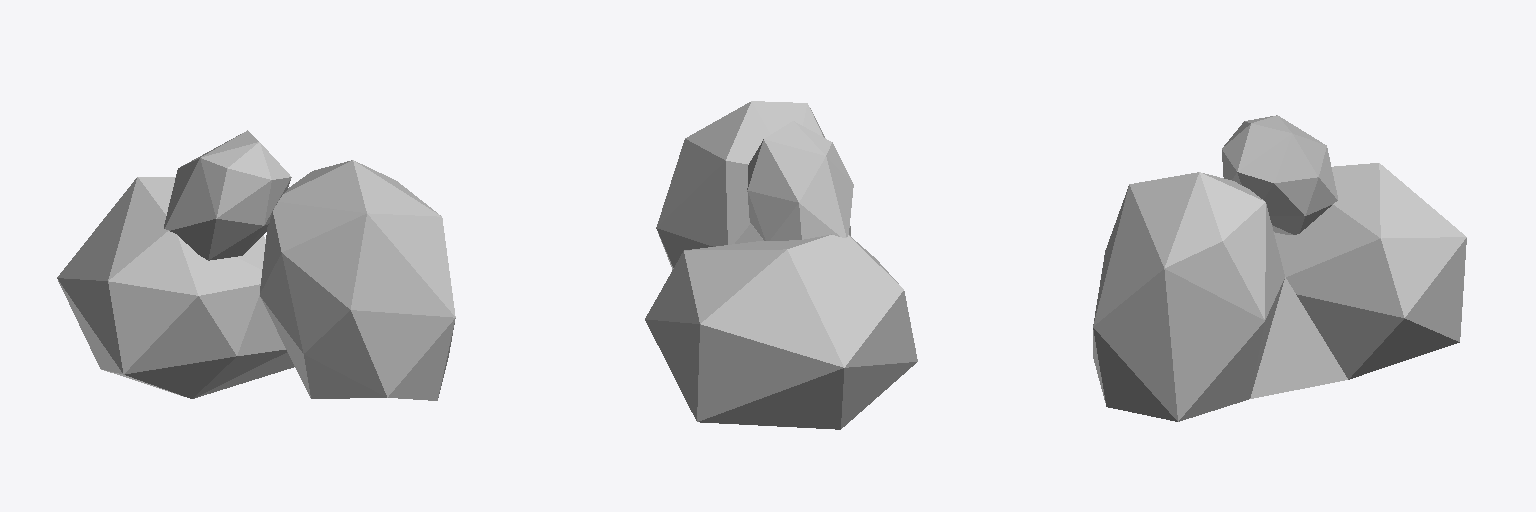
The model's file is Rock5.obj.
3 renders of one model, left to right at view 1: azimuth 30°, elevation 25°; view 2: azimuth 150°, elevation 25°; view 3: azimuth 270°, elevation 25°, orthographic.
Visible parts, largest first — view 1: Cube.008_Cube.009; view 2: Cube.008_Cube.009; view 3: Cube.008_Cube.009.
Part boxes in pixels (bbox=[...]): Cube.008_Cube.009: bbox=[57, 130, 455, 400]; Cube.008_Cube.009: bbox=[645, 101, 917, 429]; Cube.008_Cube.009: bbox=[1093, 115, 1466, 421].
Size of the model in its own units: 4.54 by 3.89 by 5.17.